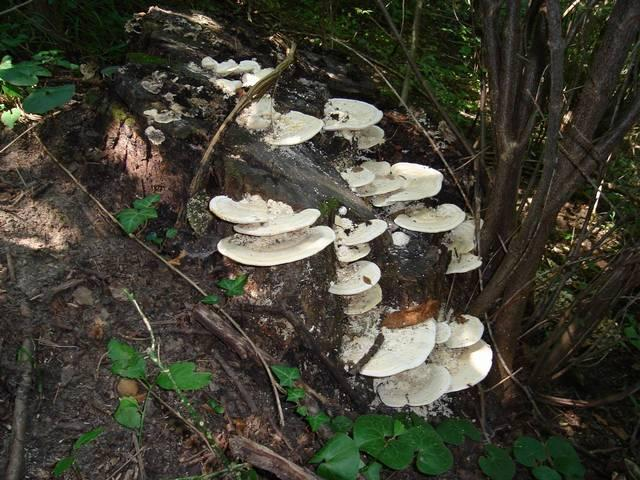poisonous_mushroom: (153, 47, 504, 404)
